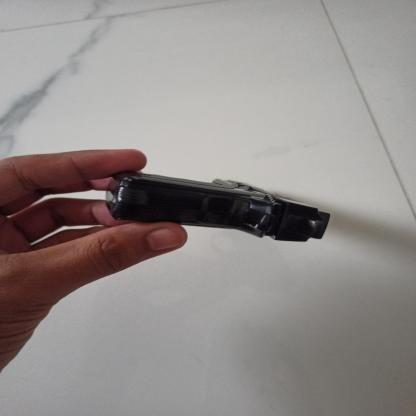handgun: (104, 168, 331, 244)
